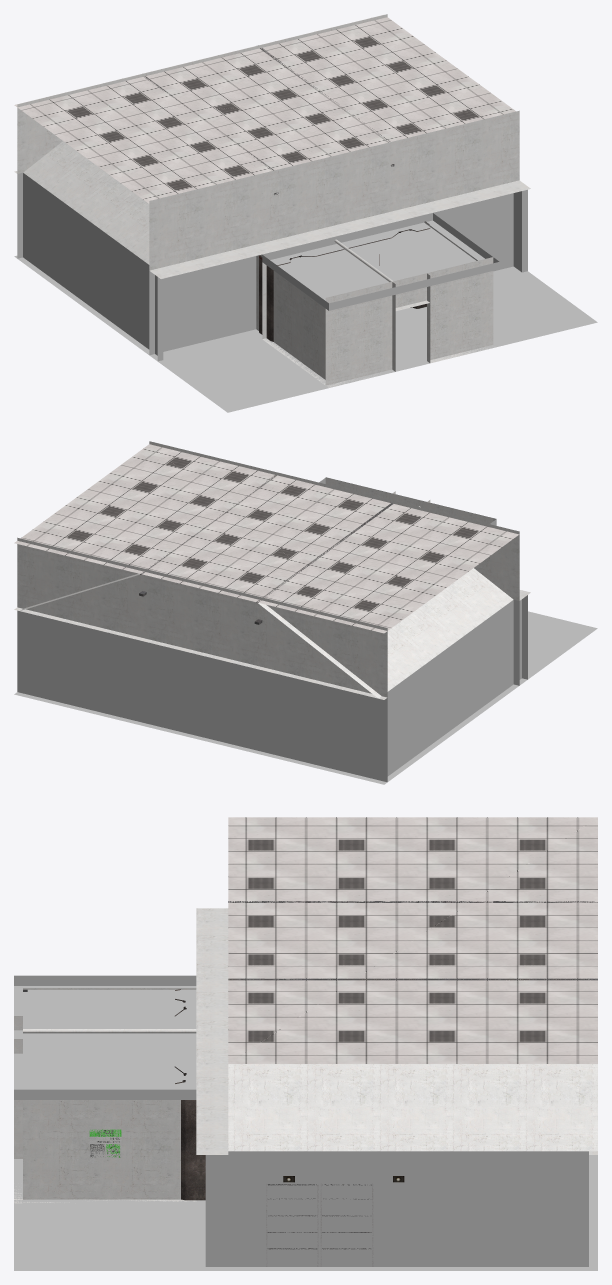
The model's file is LC_cont1_914.obj.
The picture shows the model from 3 angles, top to bottom: view 1: azimuth 30°, elevation 25°; view 2: azimuth 150°, elevation 25°; view 3: azimuth 270°, elevation 25°; orthographic projection. The views are drawn at different scales.
Parts seen in each view (by area): view 1: room914_opt; view 2: room914_opt; view 3: room914_opt.
Part boxes in pixels (x1=…): room914_opt: x1=14, y1=14, x2=597, y2=412; room914_opt: x1=14, y1=441, x2=597, y2=784; room914_opt: x1=14, y1=817, x2=597, y2=1270.
Size of the model in its own units: 20.48 by 8.17 by 20.48.
